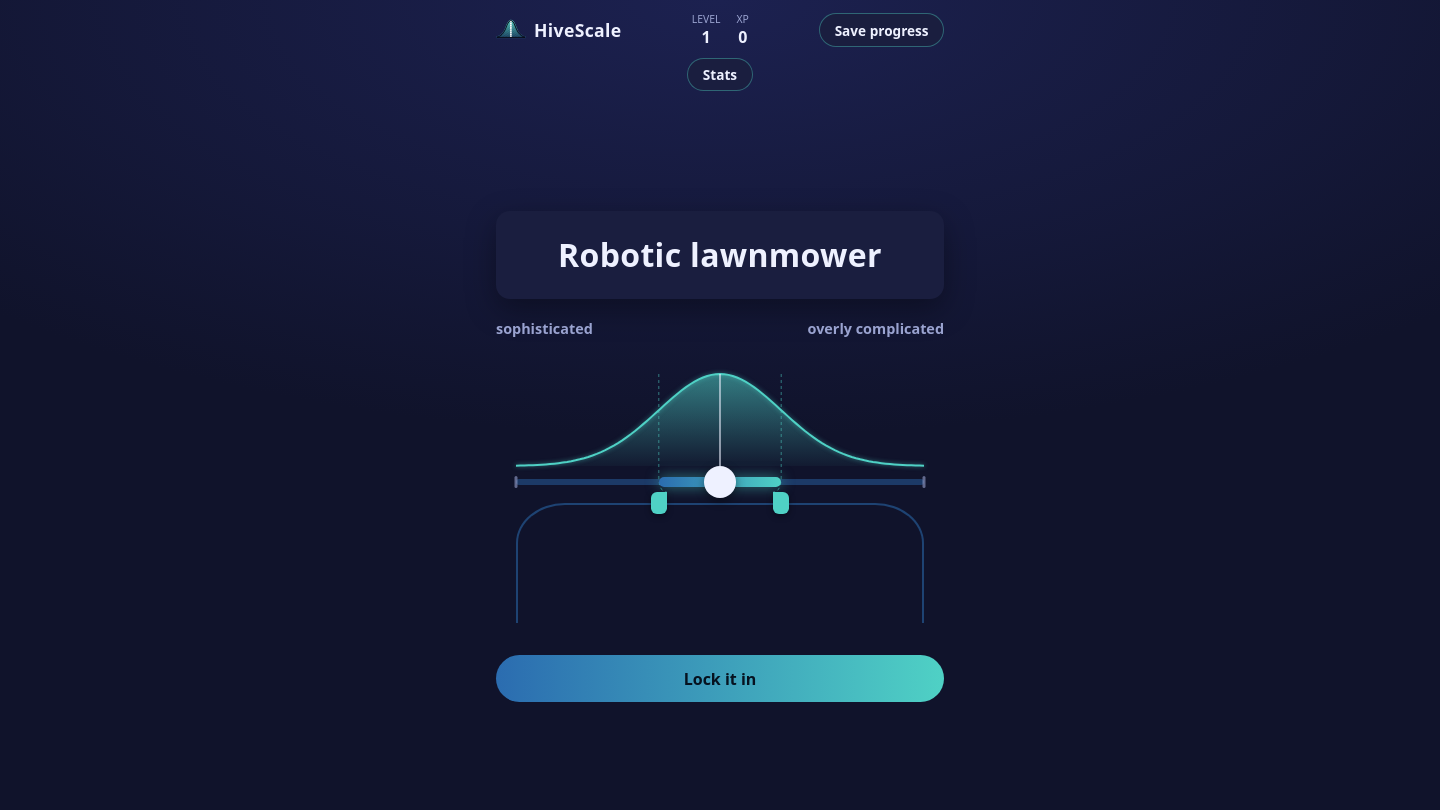
Test: PlayScreen › opens the stats page and returns to the game
The image size is (1440, 810).
Expected: the heading "Robotic lawnmower" is shown, left=558, top=233, right=882, bottom=276
Click the button "Stats" at (720, 74), box left=688, top=58, right=752, bottom=91
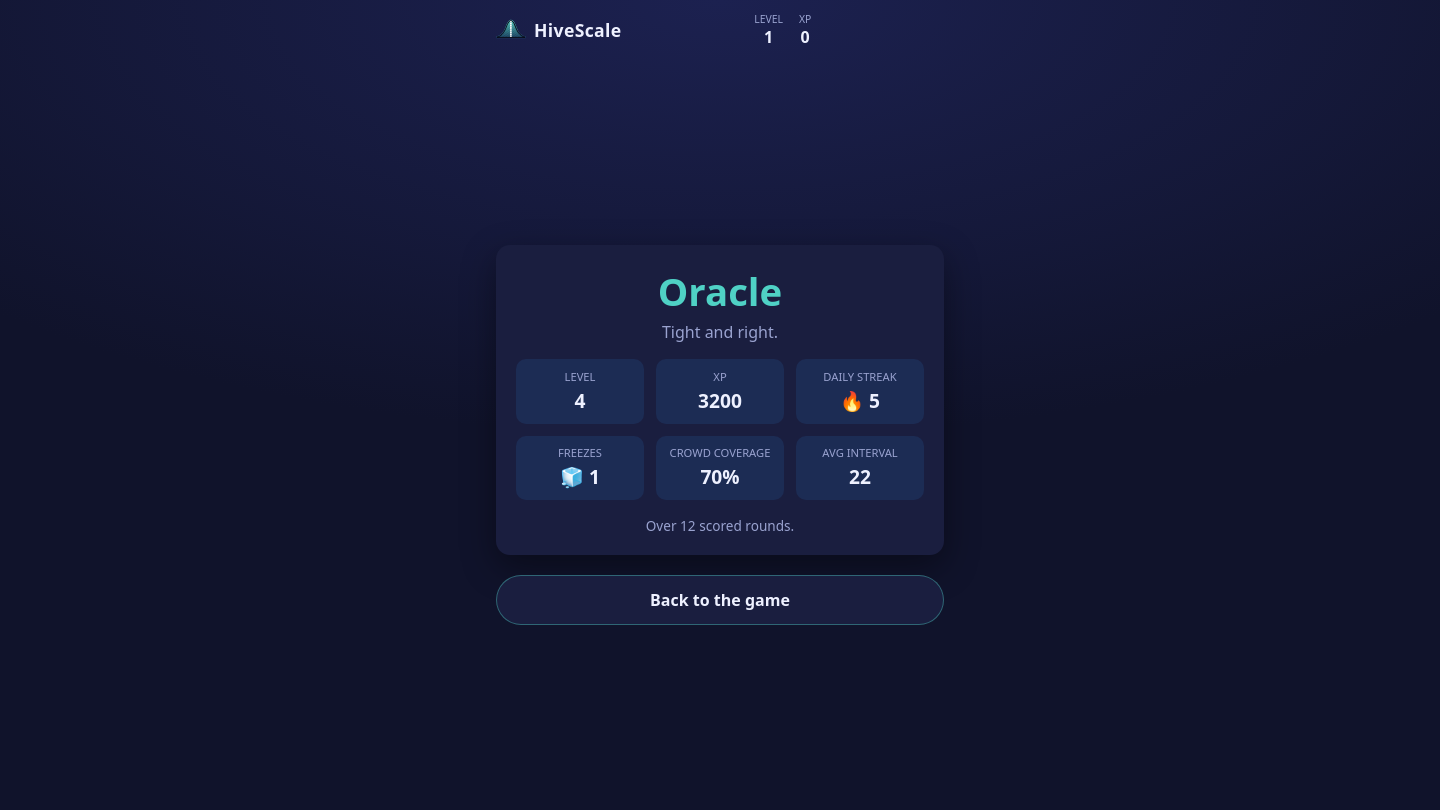
Expected: the text with test id "archetype-name" reads "Oracle", left=658, top=265, right=782, bottom=317
Click the button "Back to the game" at (720, 600), box left=496, top=575, right=944, bottom=625
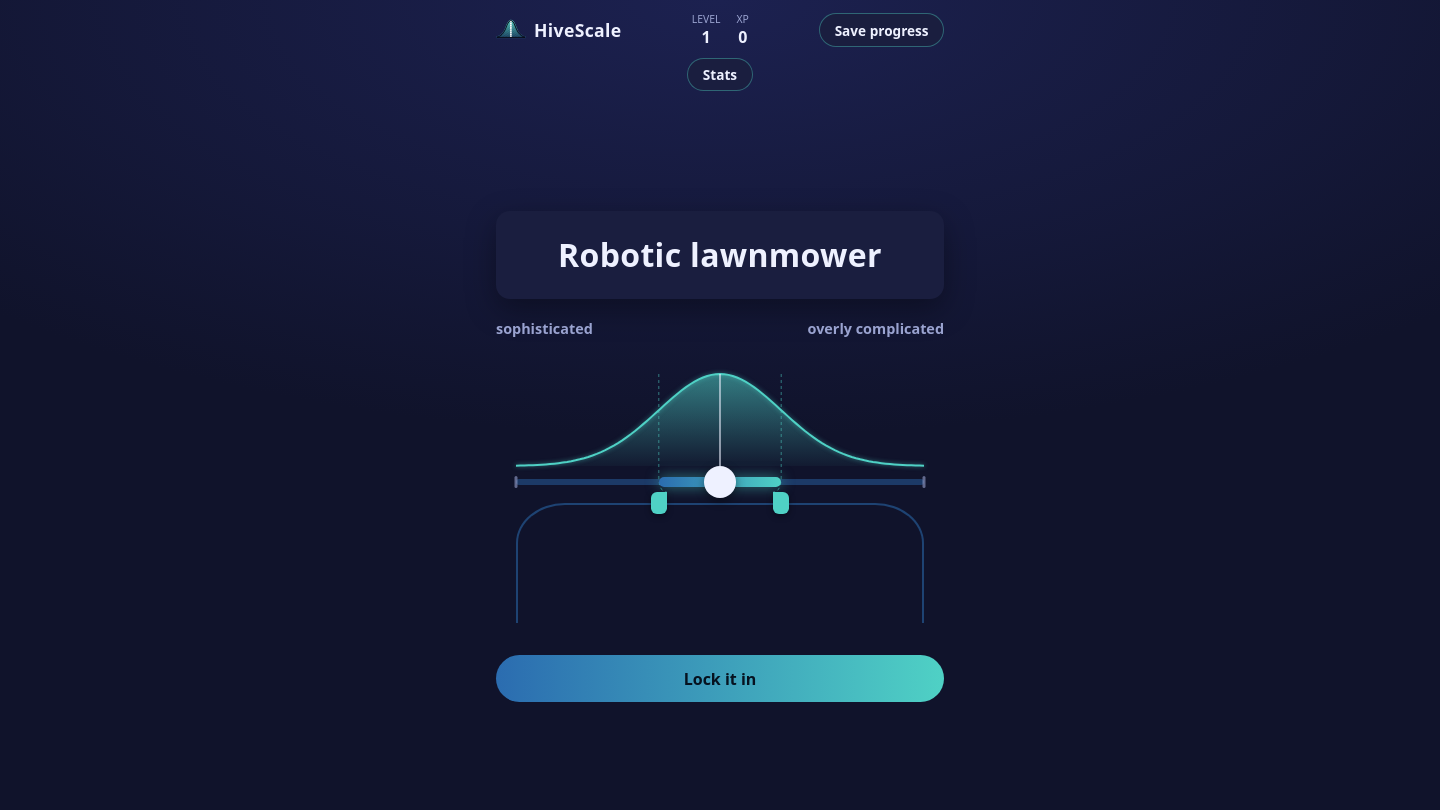
Expected: the heading "Robotic lawnmower" is shown, left=558, top=233, right=882, bottom=276
